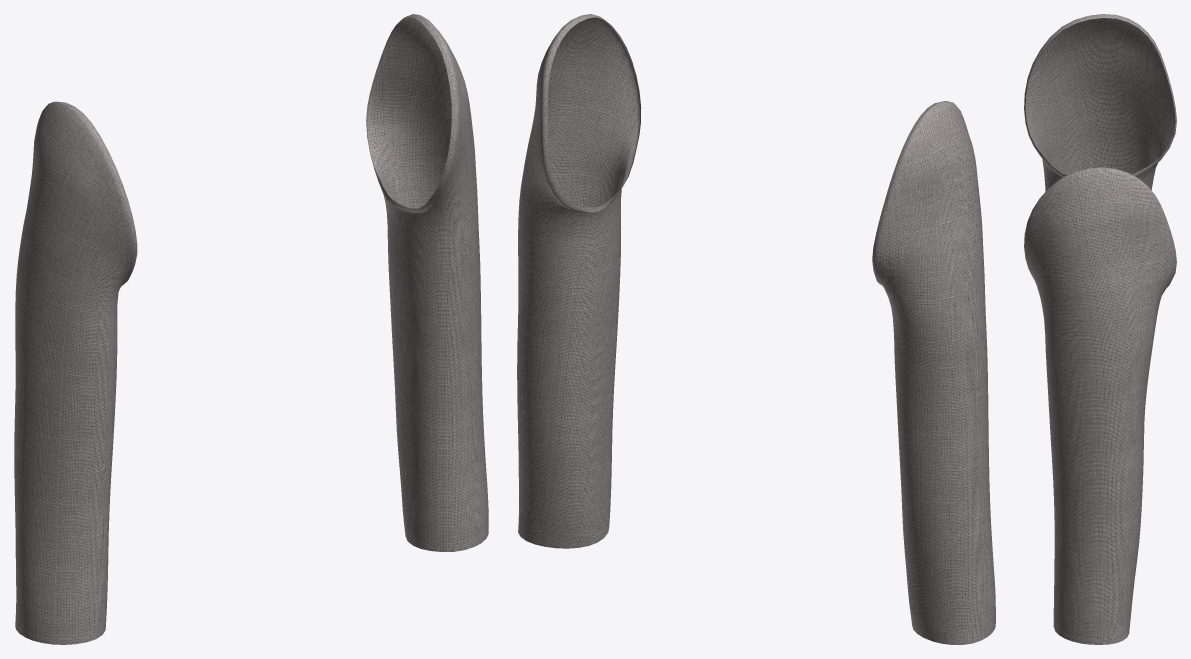
File: Structured.glb
3 views of the same model, side by side, from view 1: azimuth 30°, elevation 25°; view 2: azimuth 150°, elevation 25°; view 3: azimuth 270°, elevation 25° (orthographic). The views are drawn at different scales.
Visible parts, largest first — view 1: Sleevs_Structured; view 2: Sleevs_Structured; view 3: Sleevs_Structured.
Part boxes in pixels (x1,y1,x2,y2): Sleevs_Structured: [14, 14, 488, 644]; Sleevs_Structured: [517, 14, 995, 644]; Sleevs_Structured: [1024, 14, 1176, 644].
Bounding box in the file's own units: 0.0771 × 0.0825 × 0.0251.
Materials: 1 (1 with a texture image).
